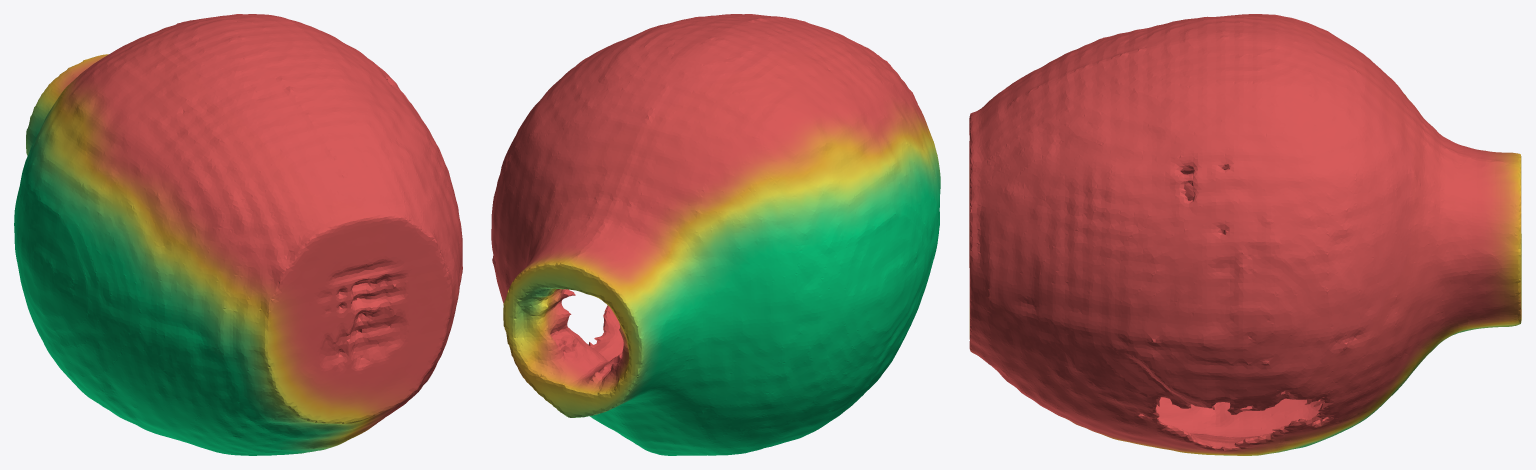
The model's file is demo2con.glb.
The picture shows the model from 3 angles, left to right: view 1: azimuth 30°, elevation 25°; view 2: azimuth 150°, elevation 25°; view 3: azimuth 270°, elevation 25°; orthographic projection. The views are drawn at different scales.
Visible parts, largest first — view 1: Screenshot_2026-10-07_192452.obj; view 2: Screenshot_2026-10-07_192452.obj; view 3: Screenshot_2026-10-07_192452.obj.
Boxes of the visible parts, x1=… form: Screenshot_2026-10-07_192452.obj: x1=14, y1=14, x2=462, y2=455; Screenshot_2026-10-07_192452.obj: x1=491, y1=14, x2=940, y2=455; Screenshot_2026-10-07_192452.obj: x1=969, y1=14, x2=1521, y2=455.
Size of the model in its own units: 1.62 by 1.63 by 1.98.
